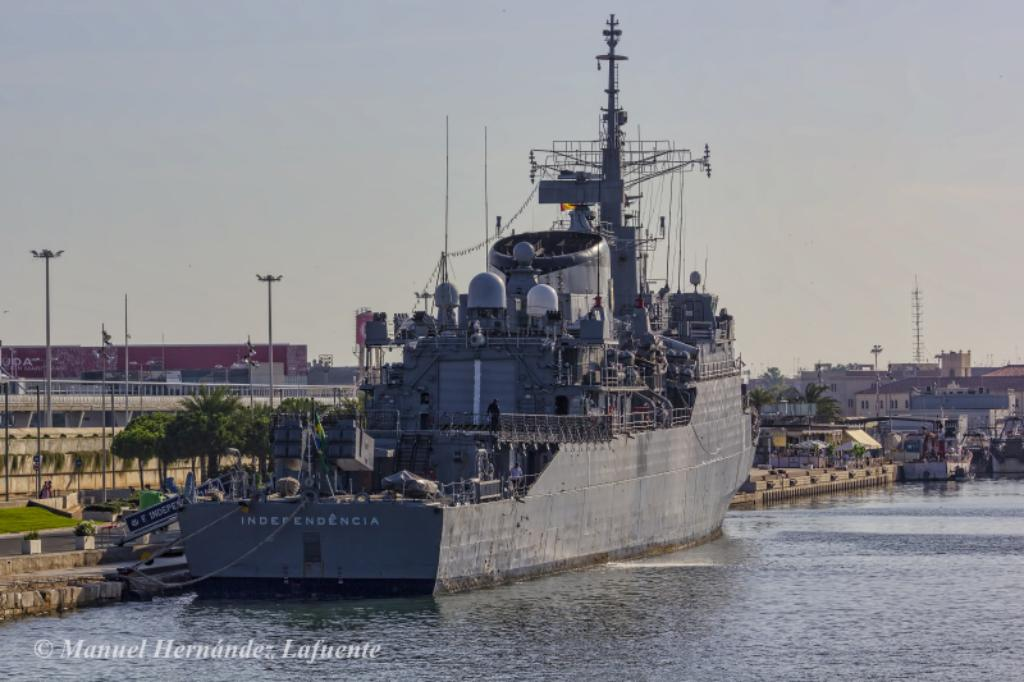Warship: (162, 1, 772, 610)
